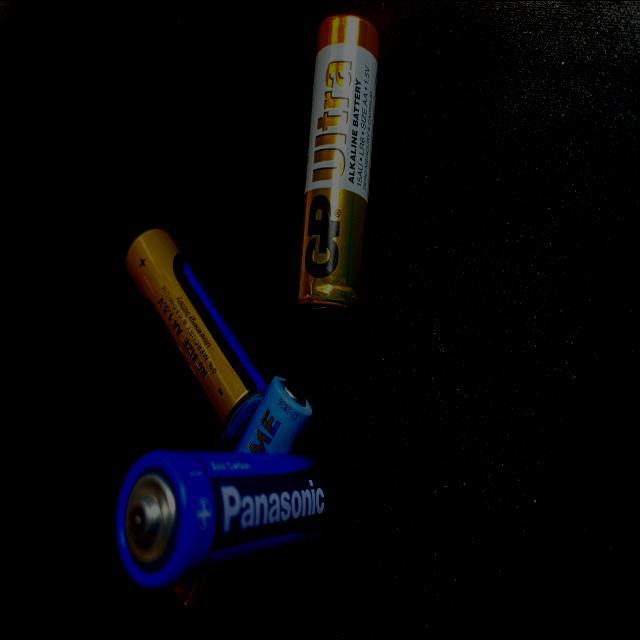AA: (113, 446, 346, 593), (121, 222, 272, 448), (292, 9, 384, 326)
